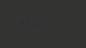eight: (17, 18, 22, 26)
four: (53, 20, 58, 28)
one: (29, 19, 34, 27)
seven: (47, 20, 52, 28)
three: (23, 18, 28, 27), (59, 20, 64, 29)
two: (41, 19, 46, 28), (35, 19, 40, 27)
